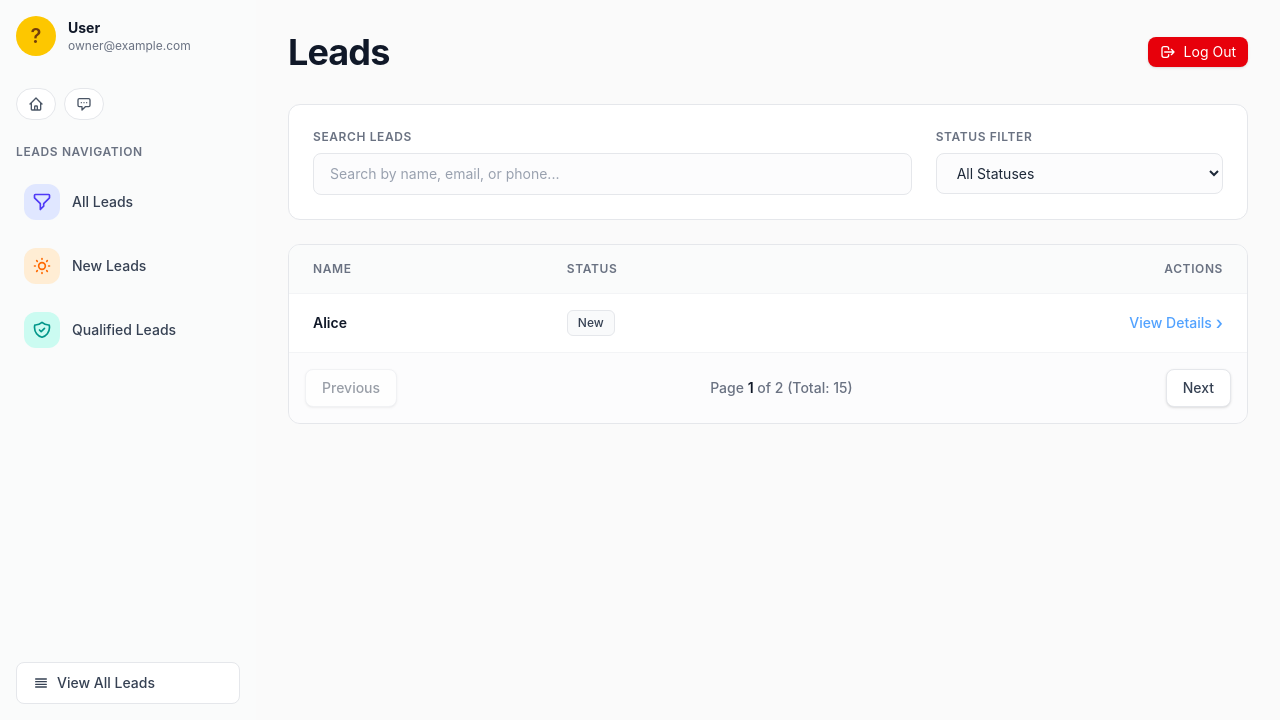
LeadList › handles pagination control clicks
Check: the text "Alice" is shown, box top-left (289, 294), bottom-right (543, 352)
Click the button "Next" at (1198, 388), box top-left (1166, 369), bottom-right (1231, 407)
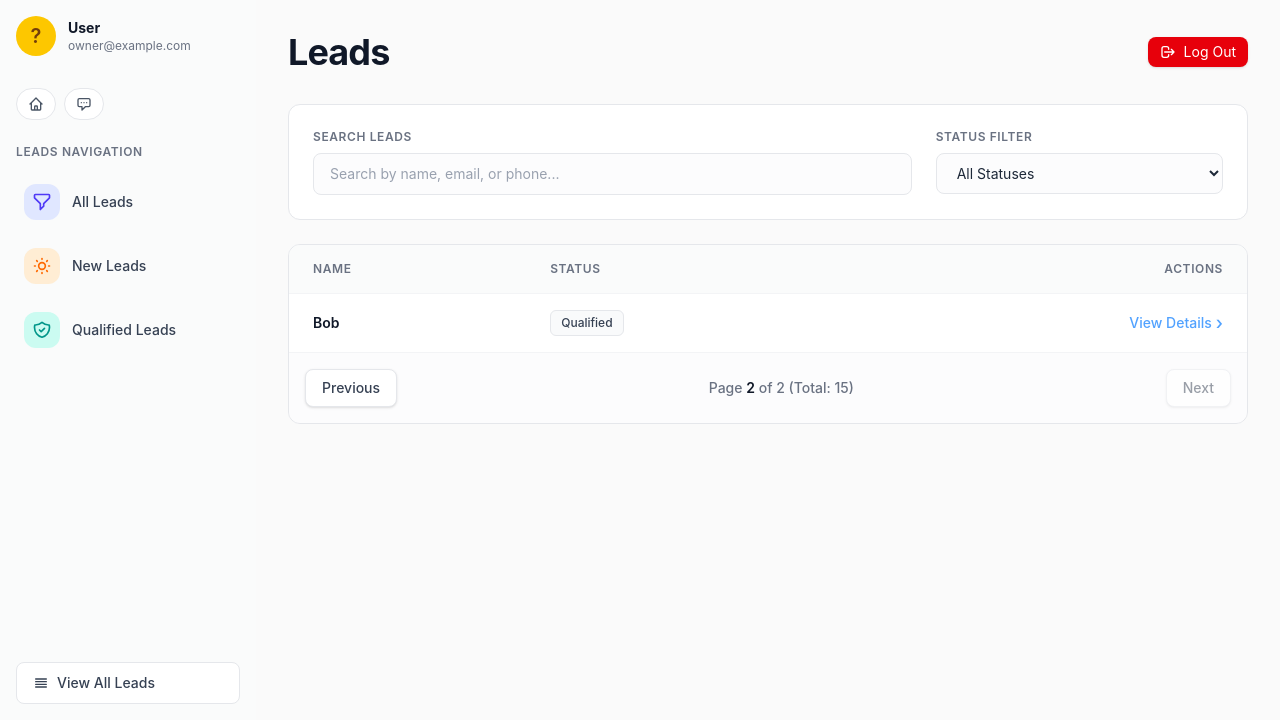
Check: the text "Bob" is shown, box top-left (289, 294), bottom-right (526, 352)
